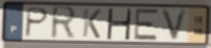E: (132, 8, 160, 42)
H: (105, 7, 134, 41)
K: (81, 7, 103, 40)
P: (23, 6, 51, 39)
R: (50, 5, 79, 41)
V: (159, 7, 191, 44)
